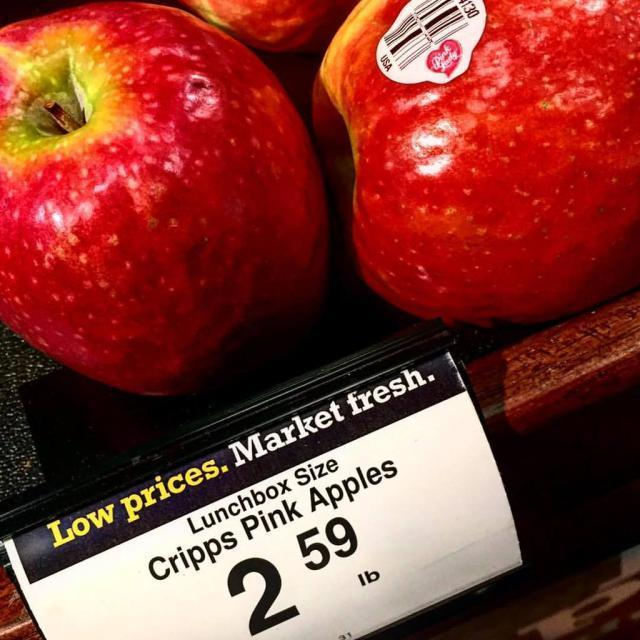Apple: (0, 0, 331, 398), (312, 0, 640, 328)
